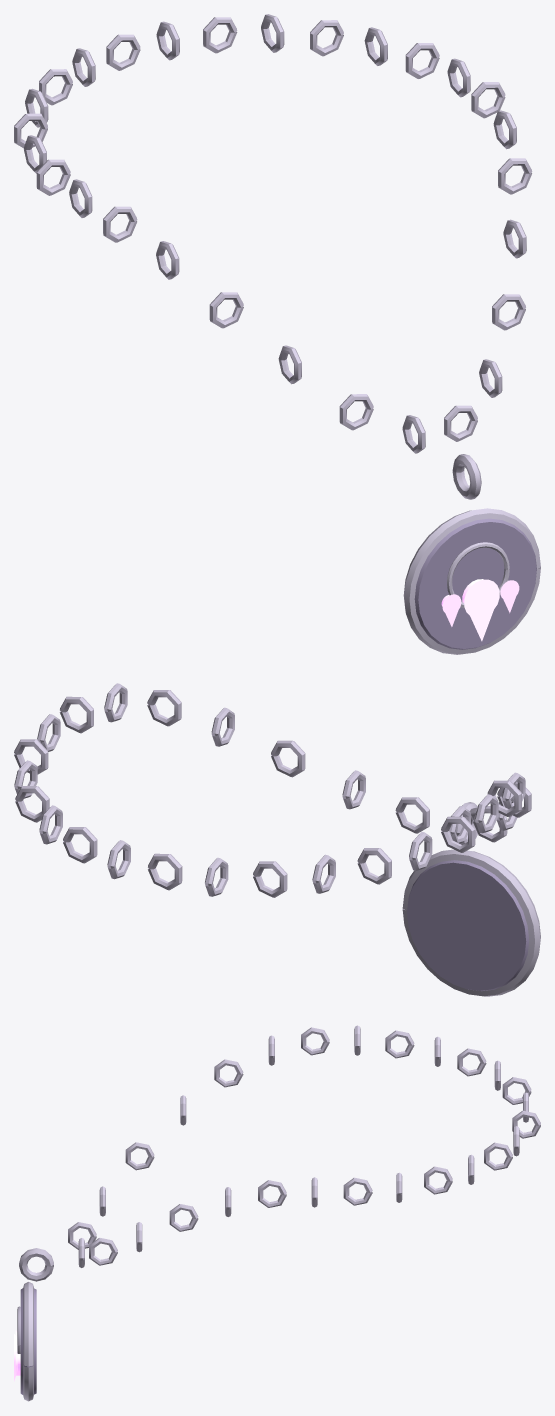
File: boss_wailing_mistress_accessory_3.glb
3 renders of one model, top to bottom at view 1: azimuth 30°, elevation 25°; view 2: azimuth 150°, elevation 25°; view 3: azimuth 270°, elevation 25°, orthographic. The views are drawn at different scales.
Parts seen in each view (by area): view 1: boss_wailing_mistress_accessory_3; view 2: boss_wailing_mistress_accessory_3; view 3: boss_wailing_mistress_accessory_3.
Part boxes in pixels (<box>): boss_wailing_mistress_accessory_3: <box>14,14,540,654</box>; boss_wailing_mistress_accessory_3: <box>14,683,540,996</box>; boss_wailing_mistress_accessory_3: <box>14,1025,540,1401</box>.
Size of the model in its own units: 0.3419 by 0.2865 by 0.466.
